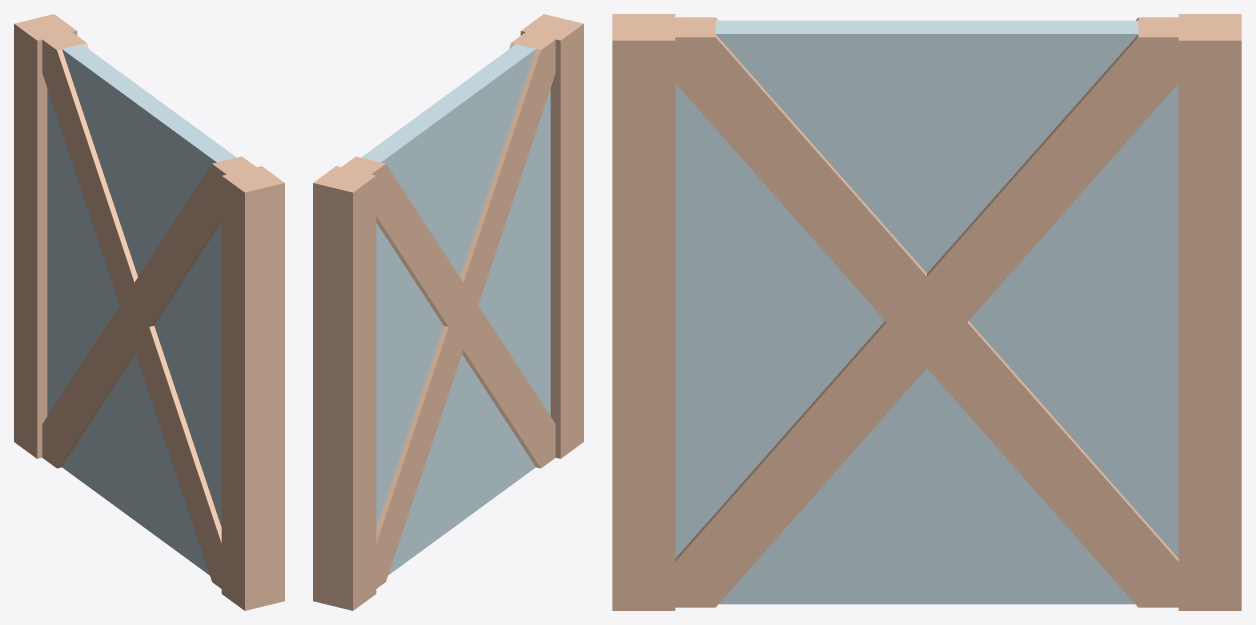
3 renders of one model, left to right at view 1: azimuth 30°, elevation 25°; view 2: azimuth 150°, elevation 25°; view 3: azimuth 270°, elevation 25°, orthographic. The views are drawn at different scales.
Parts seen in each view (by area): view 1: wallDetailCross; view 2: wallDetailCross; view 3: wallDetailCross.
Part boxes in pixels (<box>): wallDetailCross: <box>14,14,284,610</box>; wallDetailCross: <box>313,14,583,610</box>; wallDetailCross: <box>612,14,1241,610</box>.
Bounding box in the file's own units: 0.1 × 1 × 1.
